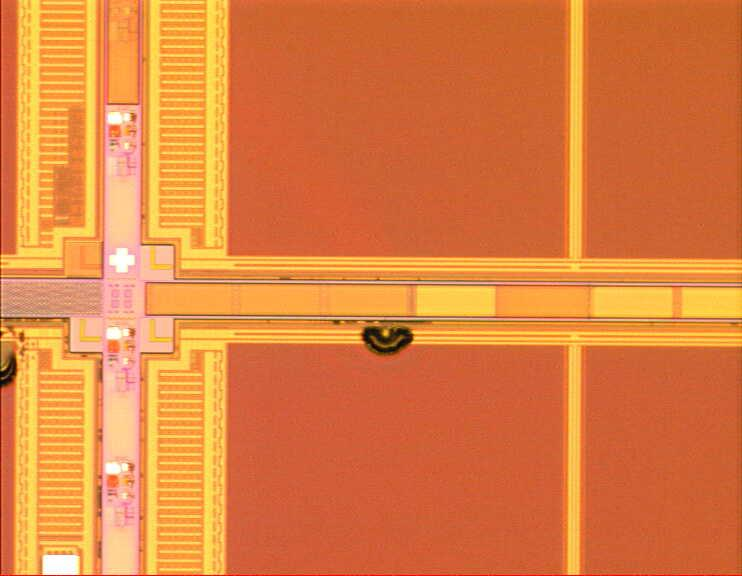PIQ PARTICLE: (1, 323, 418, 390)
